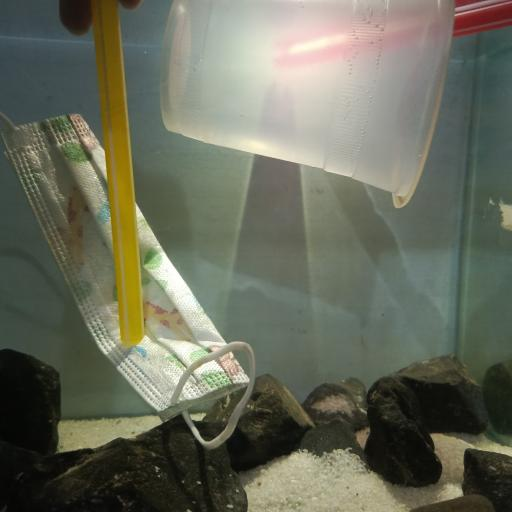mask: (2, 114, 255, 424)
plastic_cup: (153, 1, 456, 212)
plastic_straw: (90, 2, 147, 348), (269, 0, 512, 68)
